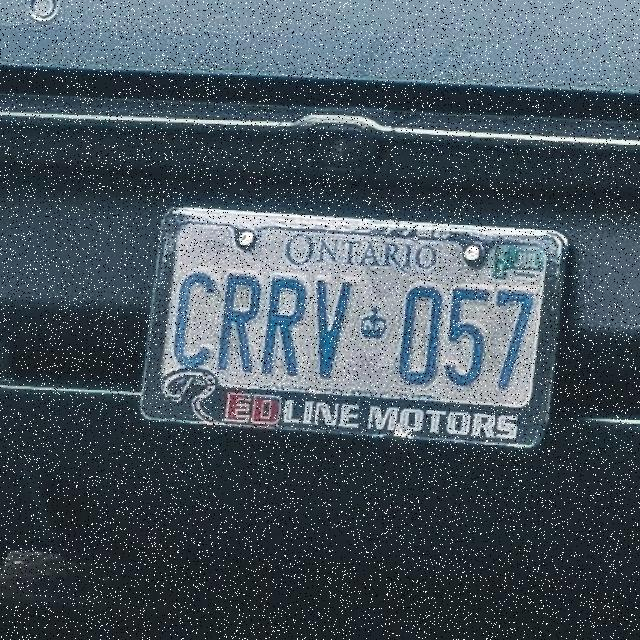licenseplate: (132, 190, 572, 460)
